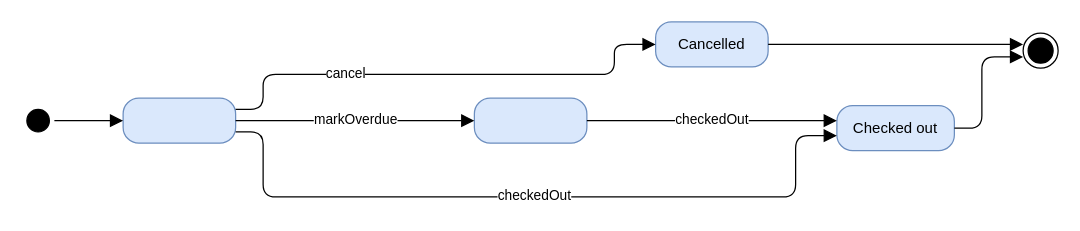
Some shapes in this 1080 by 231 pixel diagram are drawn without their labels. Here are the shapes that lost their labels. From the top down, the centre of each, then its label:
At (179,120): "Notice sent".
At (530,120): "Overdue".
